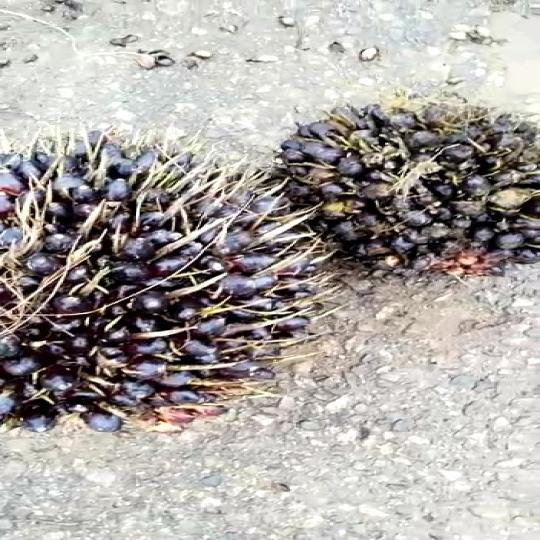mentah: (0, 127, 365, 442), (277, 86, 540, 262)
